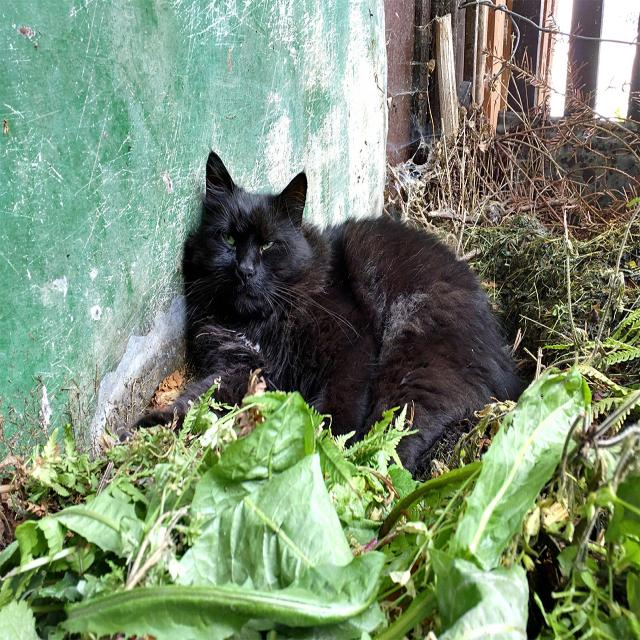cat: (136, 152, 522, 471)
